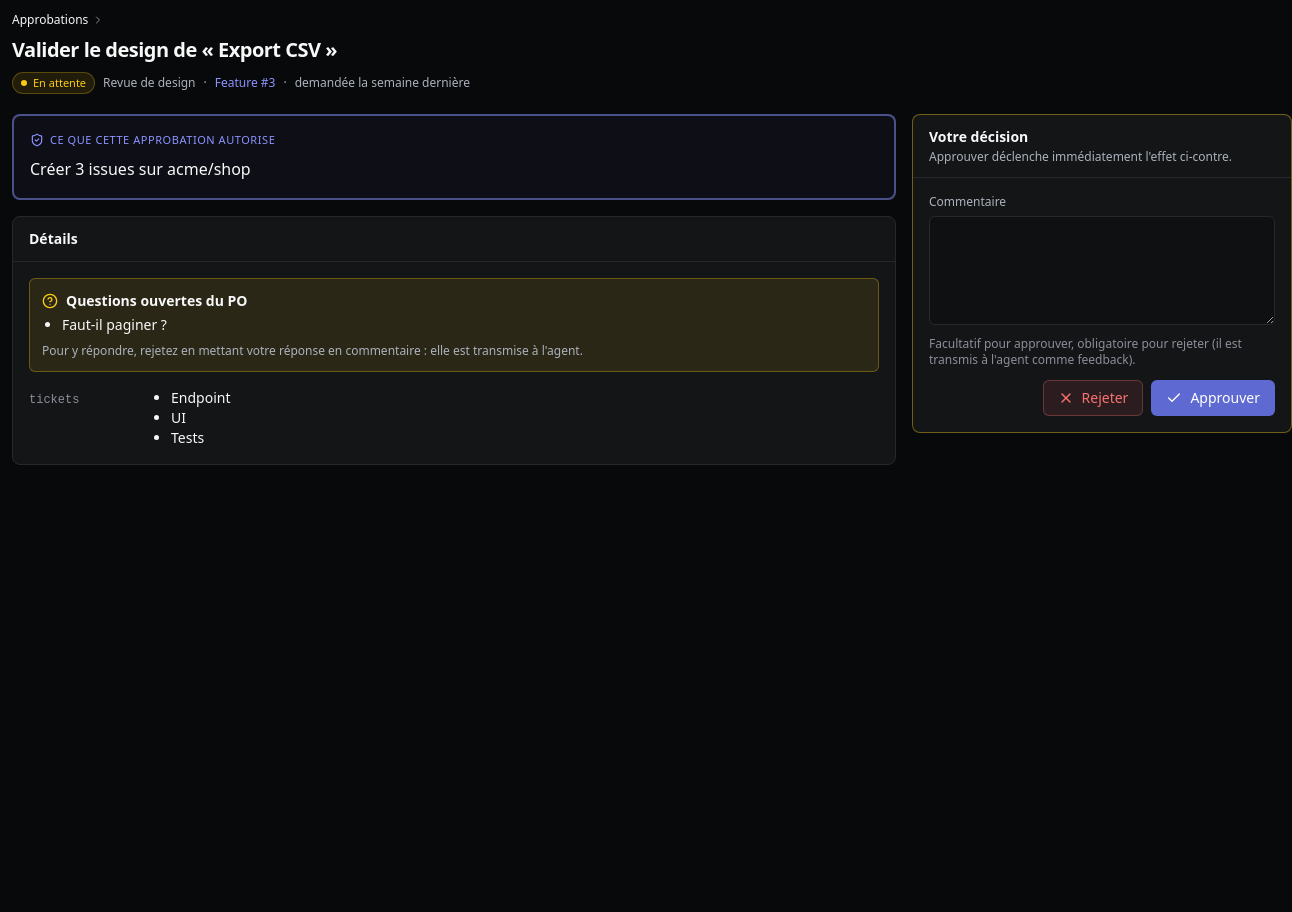
Test: Écran Approbation › rejette avec commentaire puis relit l'état depuis l'API
The width and height of the screenshot is (1292, 912).
In the text box labelled "Commentaire": (1102, 270) [929,216,1275,325], type "Découper autrement"
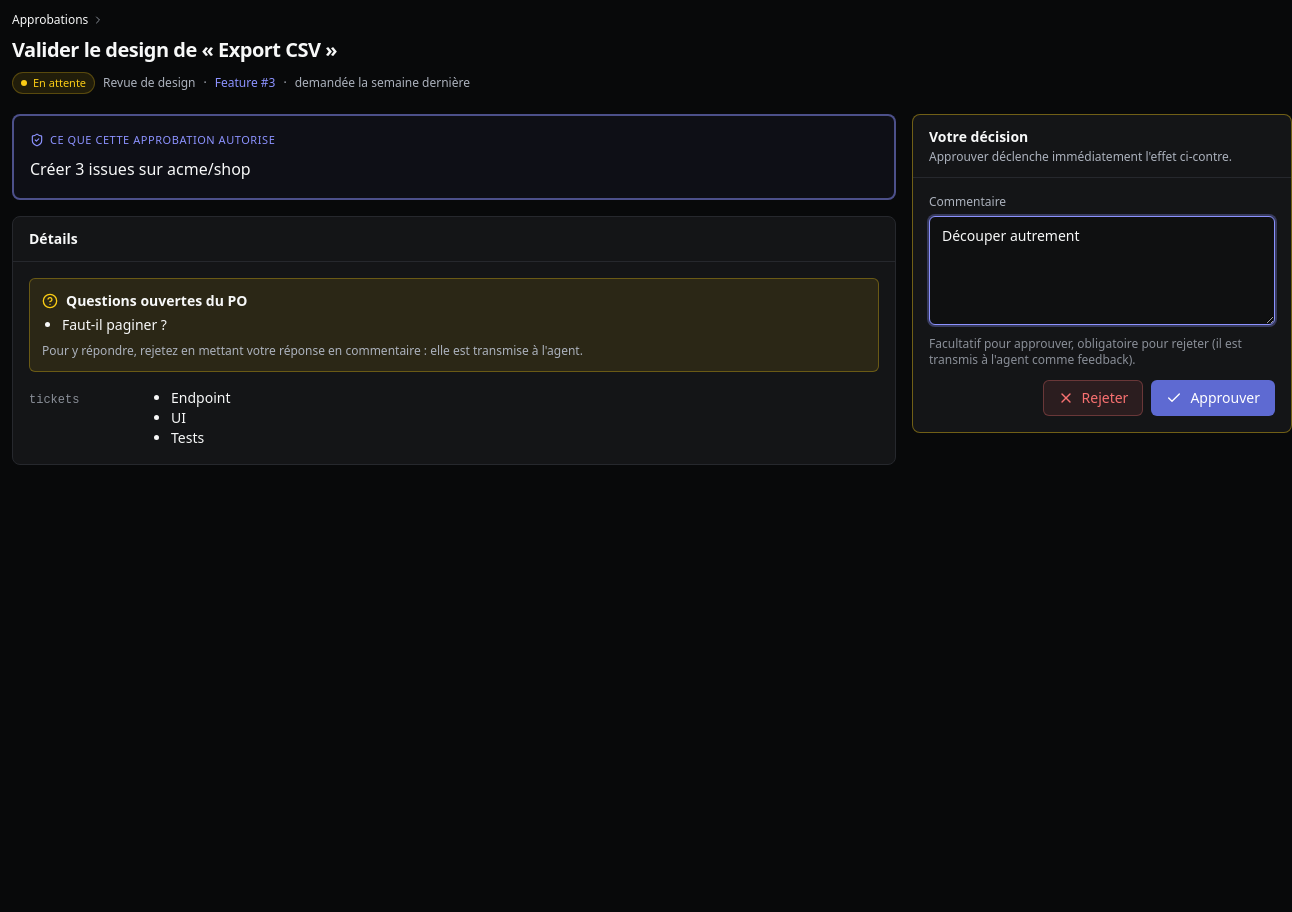
Click the button "Rejeter": (1093, 398) [1042,380,1143,416]
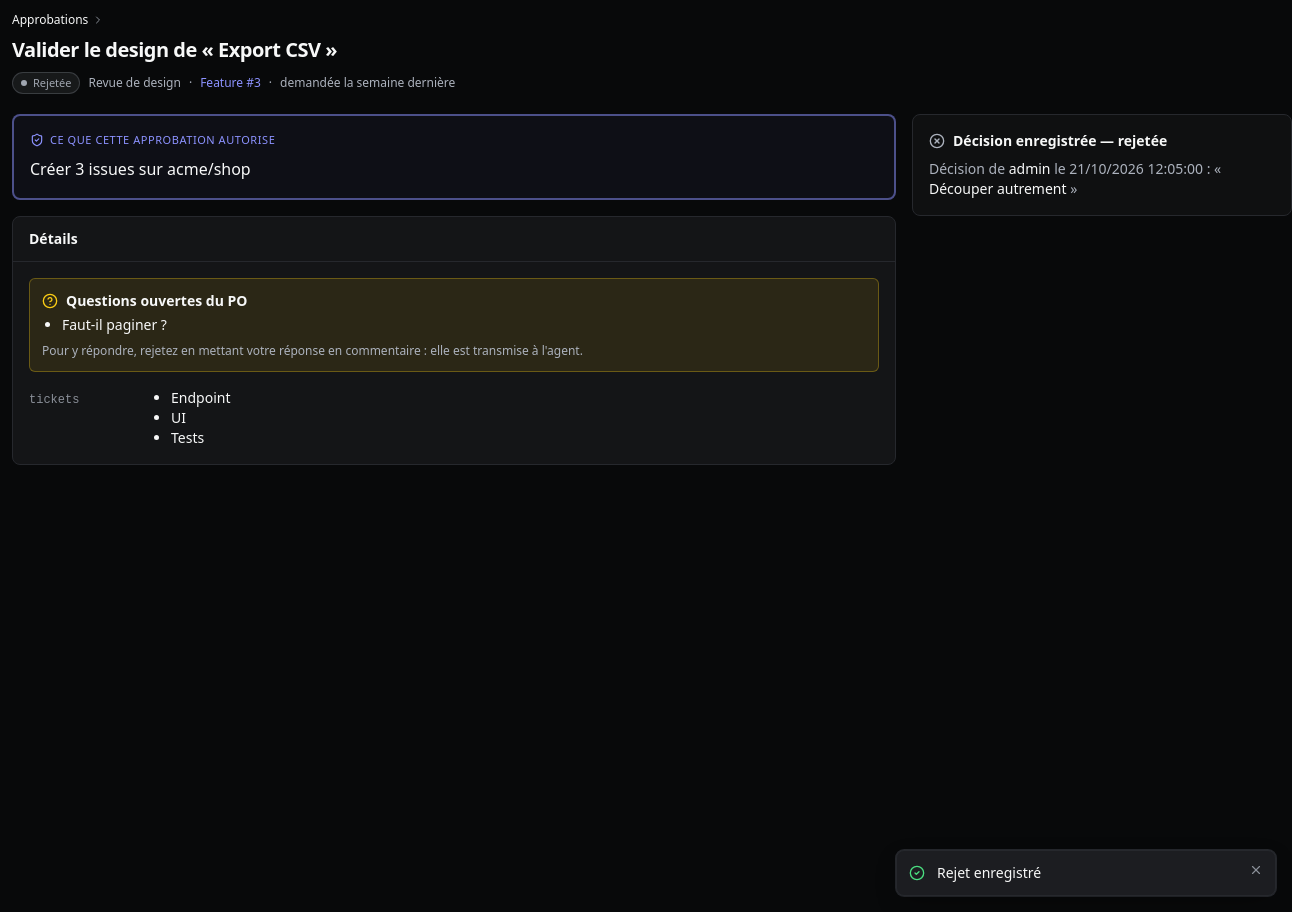
expect the message with test id "approval-outcome" shows "Décision enregistrée — rejetée": met, box [953,131,1167,150]
